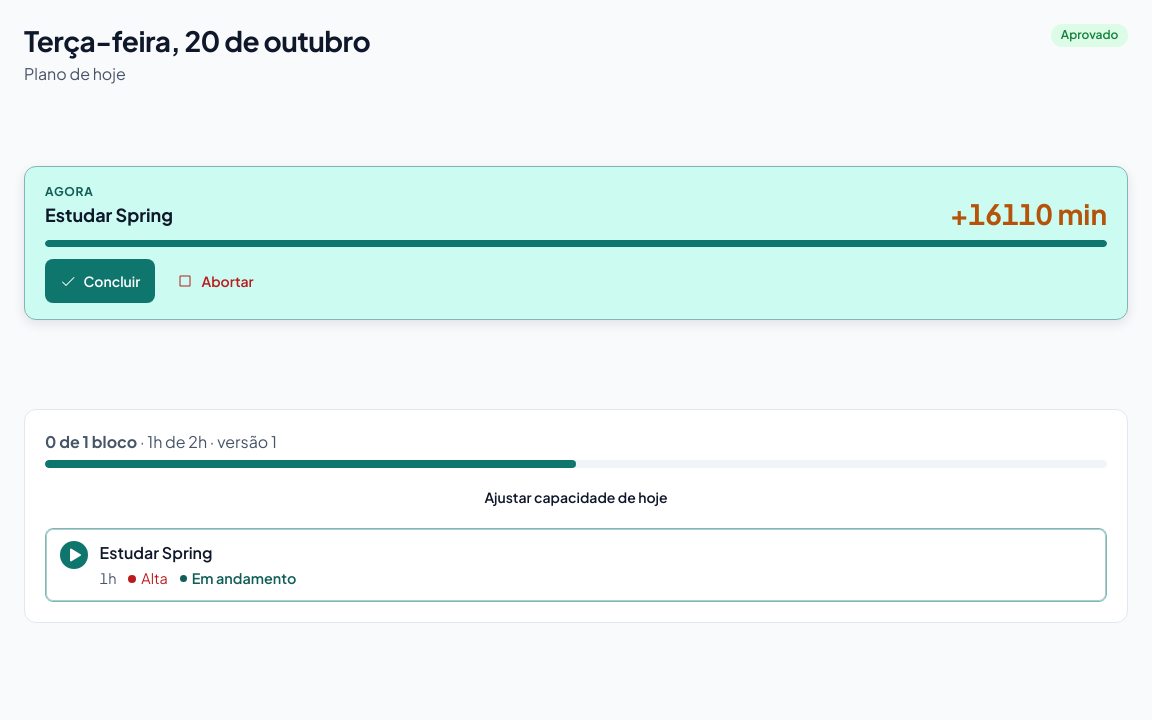
Scenario: HomePage — plano do dia › modo execução (plano APROVADO) › T5/T7: toast +XP e level-up após concluir com ganho
The width and height of the screenshot is (1152, 720).
Click the button with aria-label "concluir estudar spring". click: (100, 281)
box: [45,259,155,303]
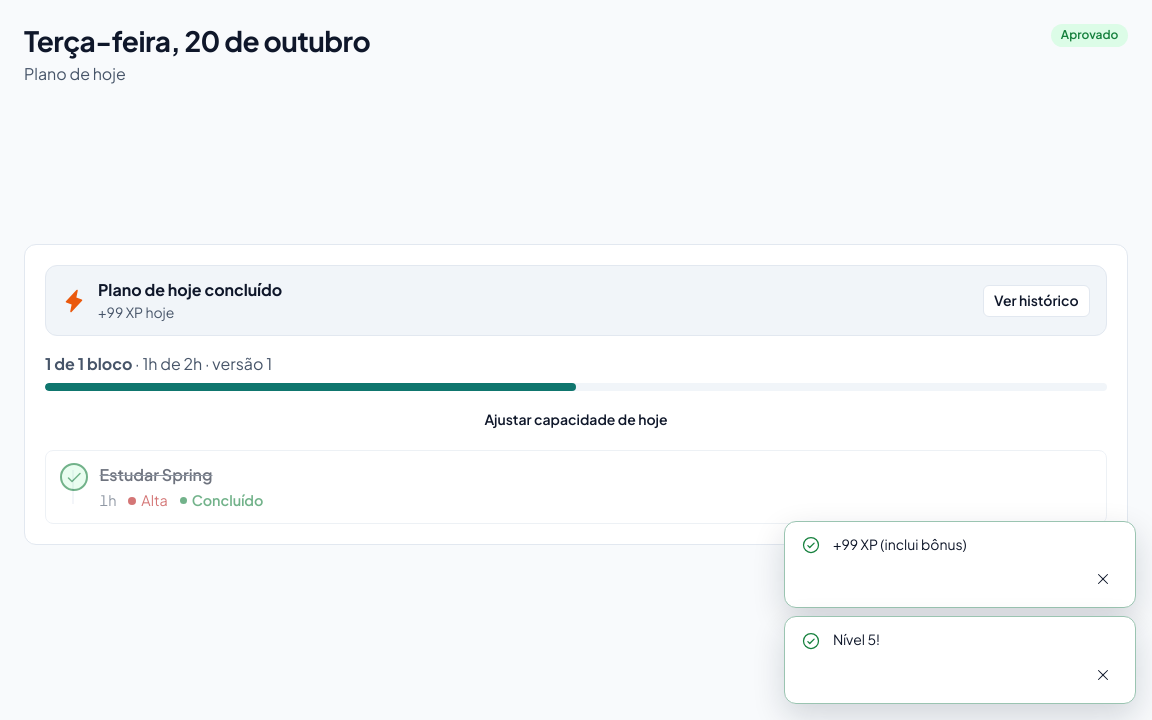
Expected: the text "+99 XP (inclui bônus)" is shown, [833,535,967,553]
Expected: the text "Nível 5!" is shown, [833,630,880,648]
